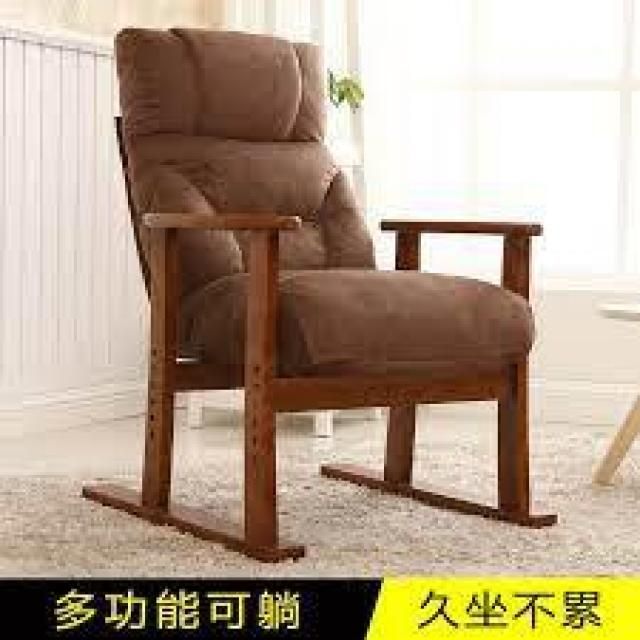chair: (78, 0, 587, 540)
